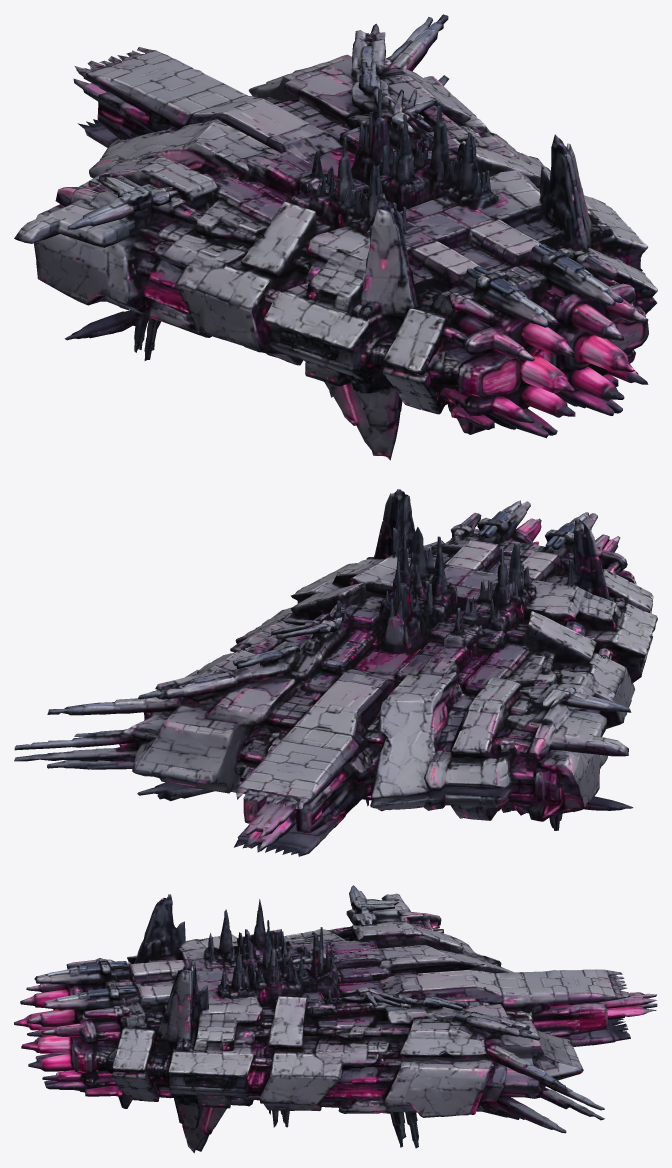
Rendered from st3d_cyber_hexdominator.glb.
3 renders of one model, top to bottom at view 1: azimuth 30°, elevation 25°; view 2: azimuth 150°, elevation 25°; view 3: azimuth 270°, elevation 25°, orthographic. The views are drawn at different scales.
Visible parts, largest first — view 1: HOMELANCER_Station3D_RoamingCybermorph-Hexdominator_v1; view 2: HOMELANCER_Station3D_RoamingCybermorph-Hexdominator_v1; view 3: HOMELANCER_Station3D_RoamingCybermorph-Hexdominator_v1.
Part boxes in pixels (x1,y1,x2,y2): HOMELANCER_Station3D_RoamingCybermorph-Hexdominator_v1: [14, 14, 657, 460]; HOMELANCER_Station3D_RoamingCybermorph-Hexdominator_v1: [14, 489, 657, 856]; HOMELANCER_Station3D_RoamingCybermorph-Hexdominator_v1: [14, 885, 657, 1153].
Size of the model in its own units: 0.7196 by 0.3363 by 0.9872.
1 material, 1 textured.
